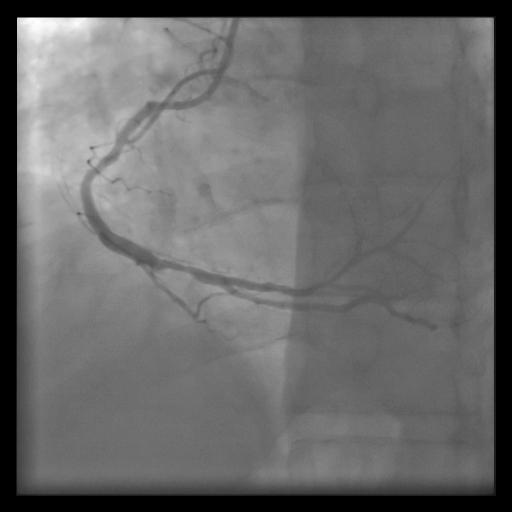Stenosis: (155, 253, 196, 280)
